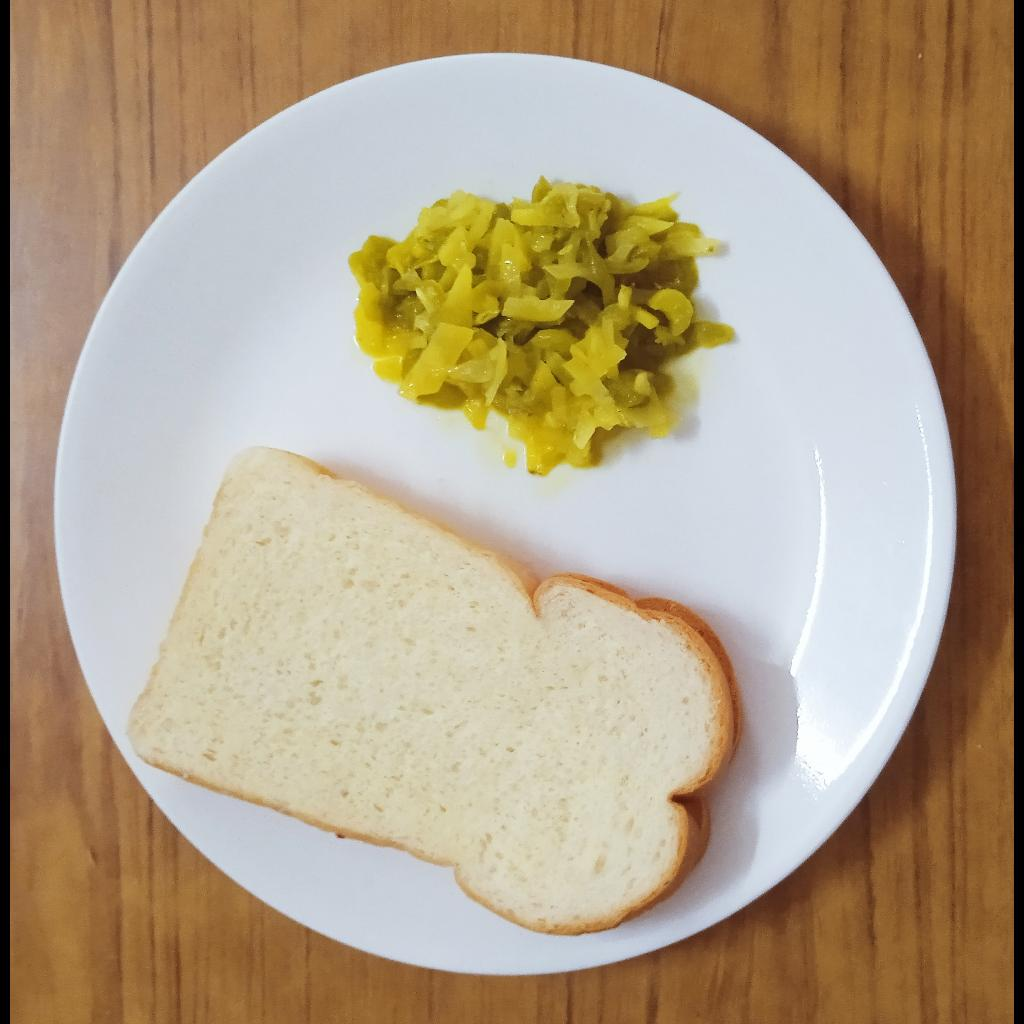bread: (129, 454, 740, 934)
vegetable: (348, 178, 736, 473)
